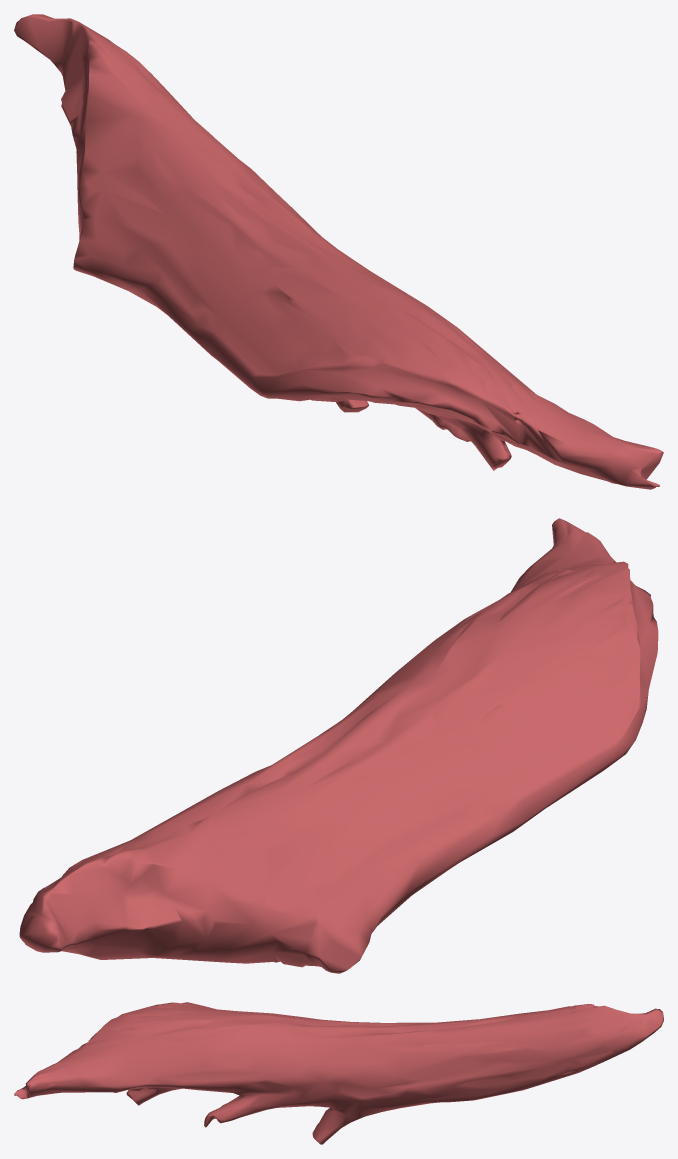
The picture shows the model from 3 angles, top to bottom: view 1: azimuth 30°, elevation 25°; view 2: azimuth 150°, elevation 25°; view 3: azimuth 270°, elevation 25°; orthographic projection. The views are drawn at different scales.
Visible parts, largest first — view 1: 右侧腰方肌; view 2: 右侧腰方肌; view 3: 右侧腰方肌.
Part boxes in pixels (x1,y1,x2,y2): 右侧腰方肌: [14, 14, 663, 489]; 右侧腰方肌: [19, 518, 658, 973]; 右侧腰方肌: [14, 1002, 663, 1144].
Bounding box in the file's own units: 0.0758 × 0.0666 × 0.3041.
